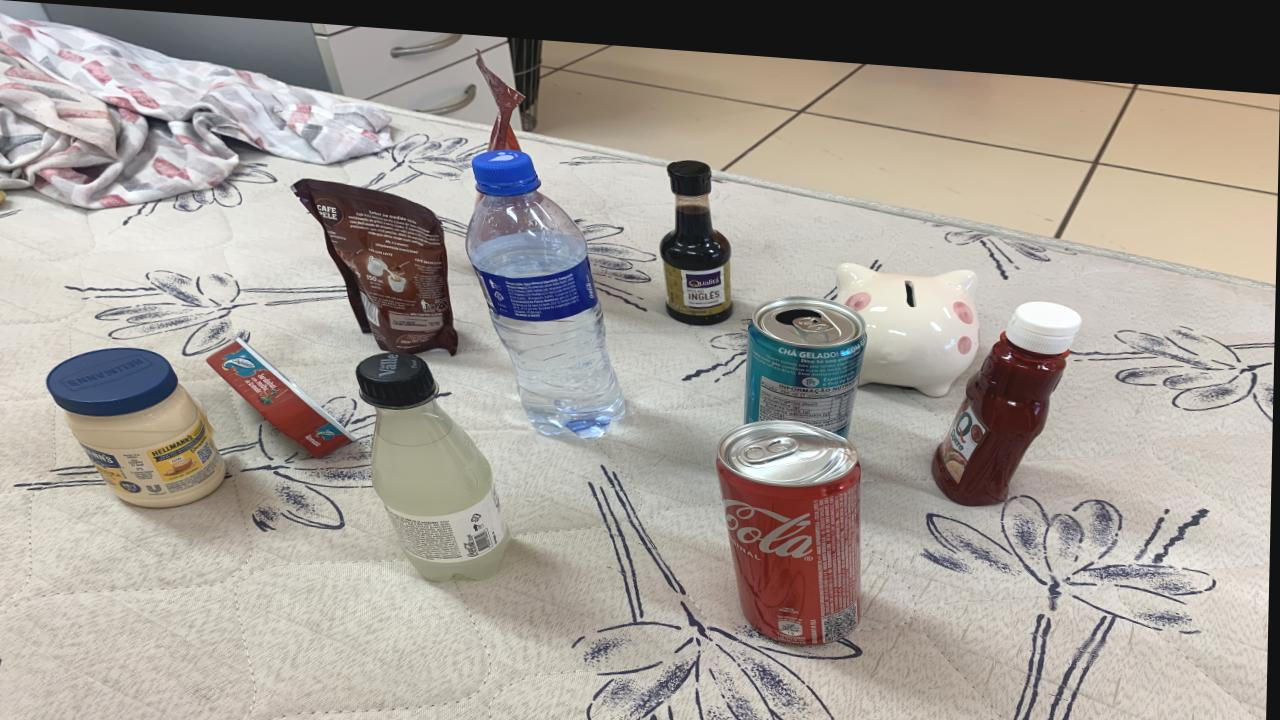Coffee-Pantry_Items: (292, 173, 460, 347)
Coke-Drinks: (718, 408, 863, 633)
English_Sauce-Pantry_Items: (661, 149, 733, 315)
Ketchup-Pantry_Items: (933, 286, 1083, 491)
Mayonnaise-Pantry_Items: (48, 345, 227, 505)
Pig_Safe-Miscellaneous: (836, 250, 981, 383)
Soda-Drinks: (359, 346, 511, 574)
Tea-Drinks: (746, 283, 868, 423)
Tomato_Sauce-Pantry_Items: (477, 45, 524, 143)
Tuna_Can-Pantry_Items: (209, 335, 358, 452)
Water_Bottle-Drinks: (466, 141, 626, 429)
